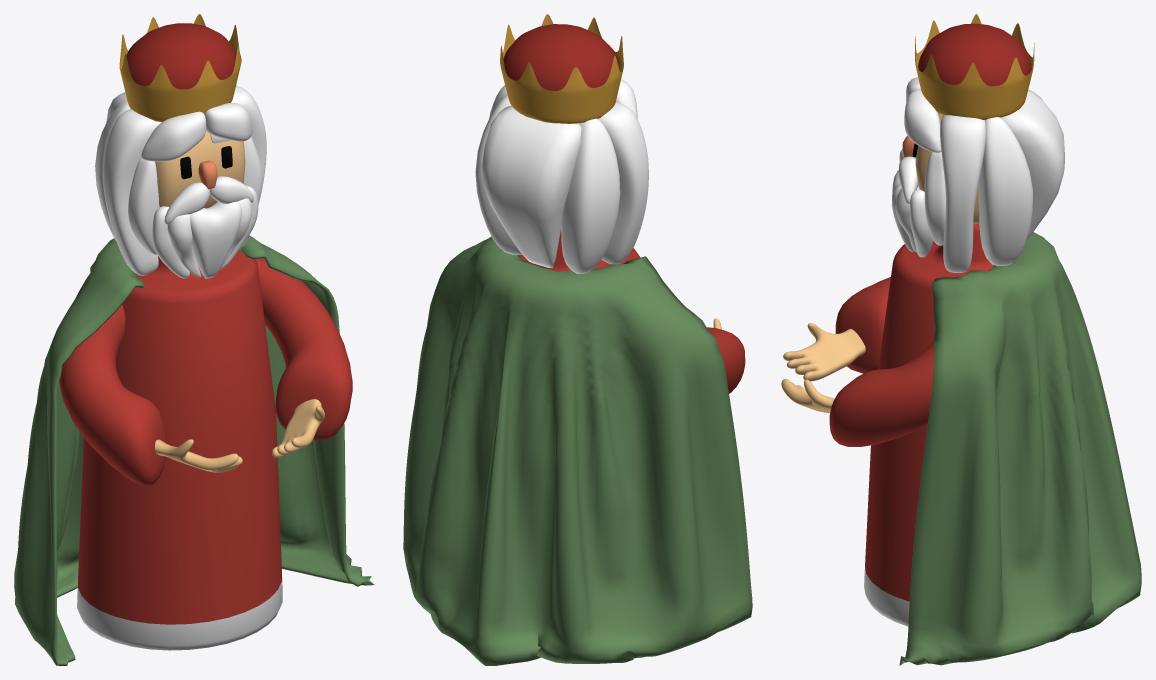
File: Melchor.fbx
3 renders of one model, left to right at view 1: azimuth 30°, elevation 25°; view 2: azimuth 150°, elevation 25°; view 3: azimuth 270°, elevation 25°, orthographic.
Parts seen in each view (by area): view 1: Cube.034; view 2: Cube.034; view 3: Cube.034.
Boxes of the visible parts, x1,y1,x2,y2 form: Cube.034: (14, 14, 374, 665); Cube.034: (403, 14, 752, 665); Cube.034: (781, 14, 1141, 665).
Bounding box in the file's own units: 128 × 223 × 127.
